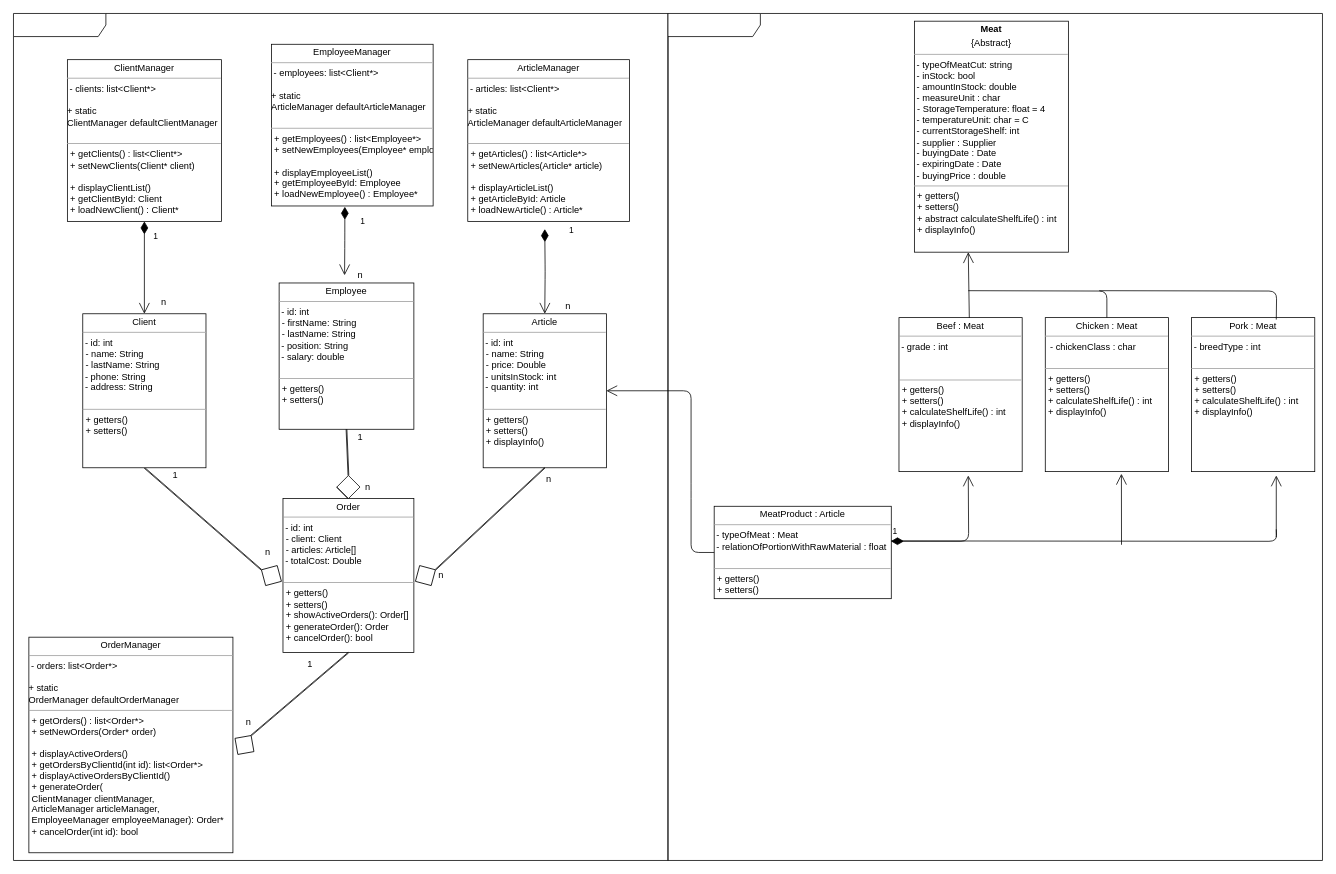
Some shapes in this 1336 by 874 pixel diagram are drawn without their labels. Each missing label, with the box of its shape:
business service: (13, 13, 668, 860)
Inventory service: (667, 13, 1322, 860)
